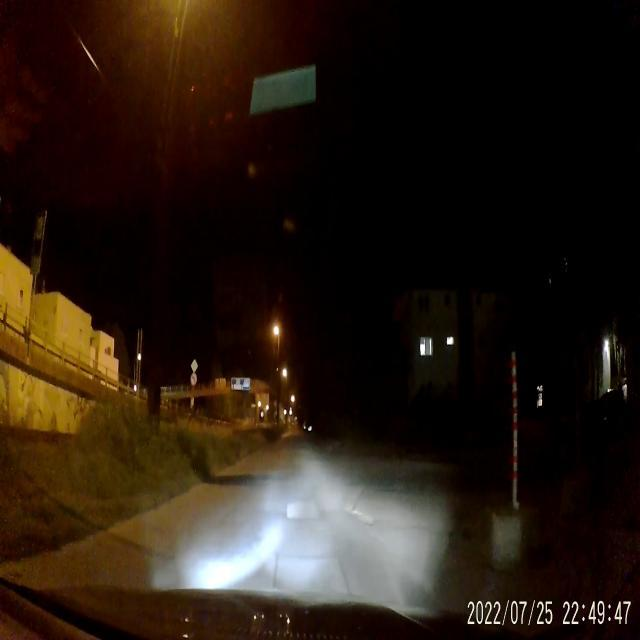Pothole: (283, 496, 324, 527)
